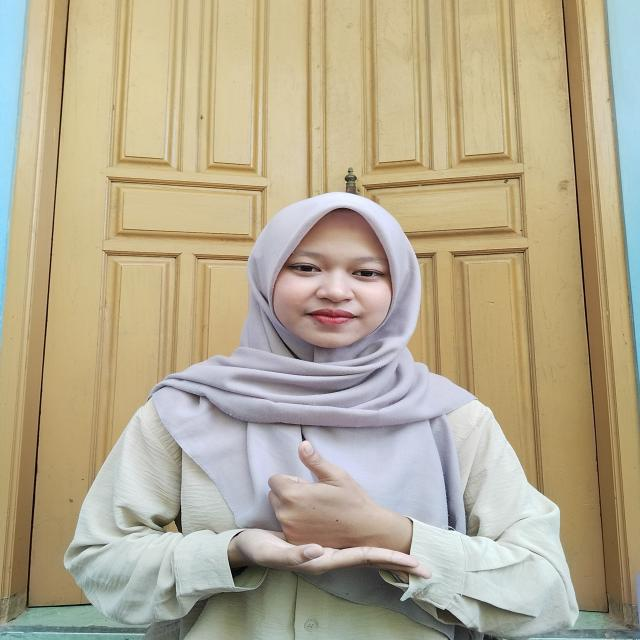cantik: (216, 424, 408, 604)
